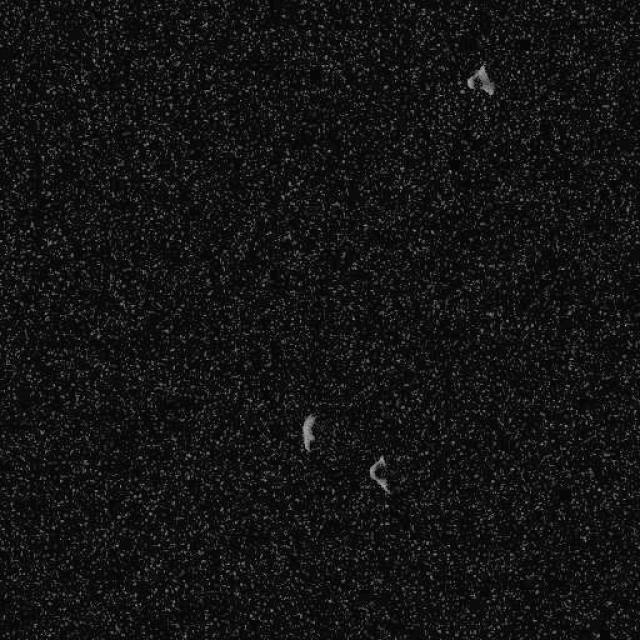D2: (466, 62, 495, 96), (368, 454, 390, 494), (300, 412, 316, 452)
